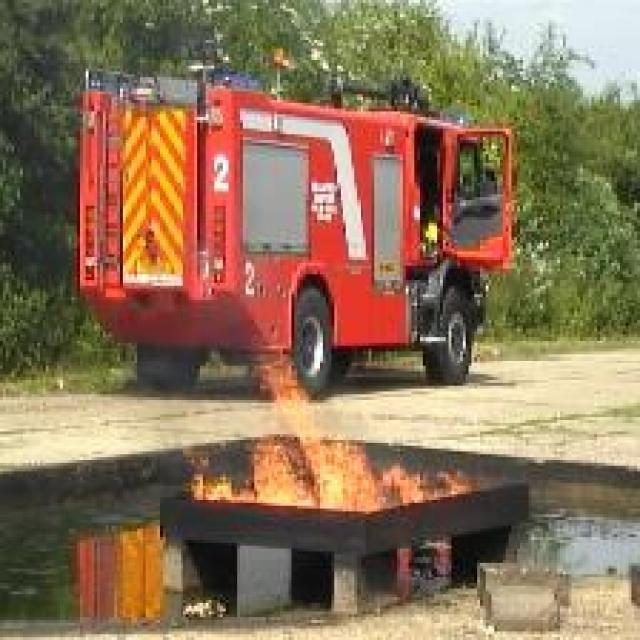Fire: (185, 338, 470, 513)
